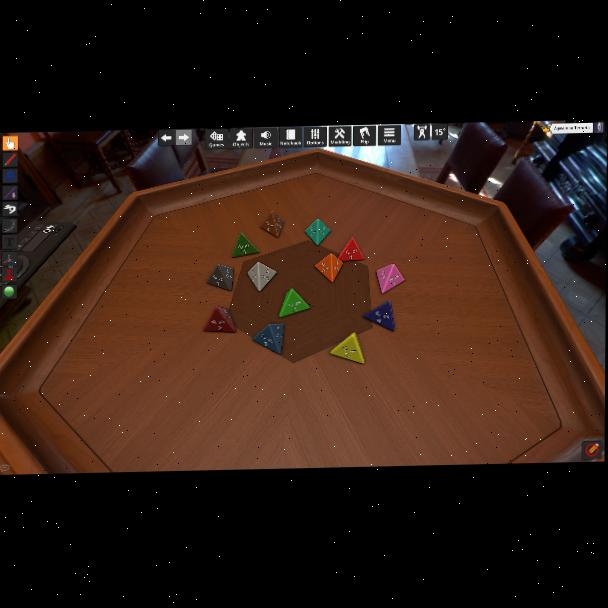d4: (330, 332, 363, 365), (253, 324, 284, 356), (364, 300, 395, 331), (204, 306, 237, 334), (247, 262, 277, 292), (279, 288, 308, 317), (376, 264, 403, 295), (316, 252, 342, 283), (208, 263, 234, 291), (338, 237, 364, 263), (232, 233, 259, 258), (304, 218, 326, 246), (262, 210, 283, 238)
